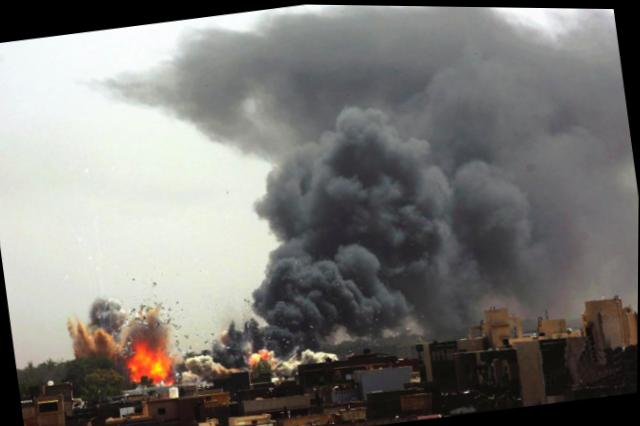fire: (127, 339, 171, 383)
